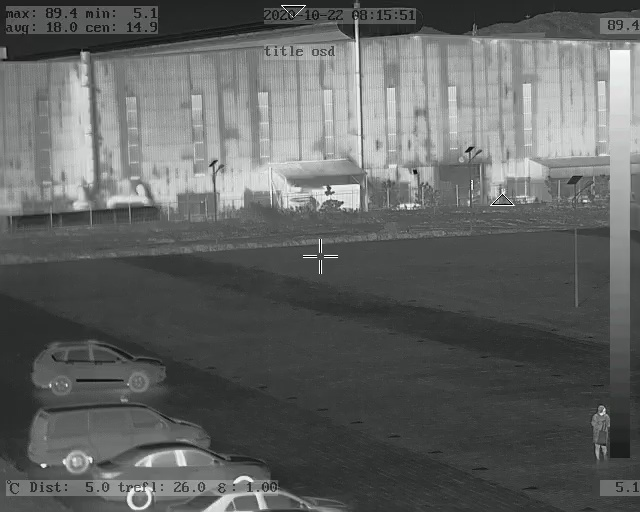person: (590, 402, 612, 462)
vehicle: (91, 438, 273, 507), (28, 406, 208, 469), (33, 337, 167, 397)
